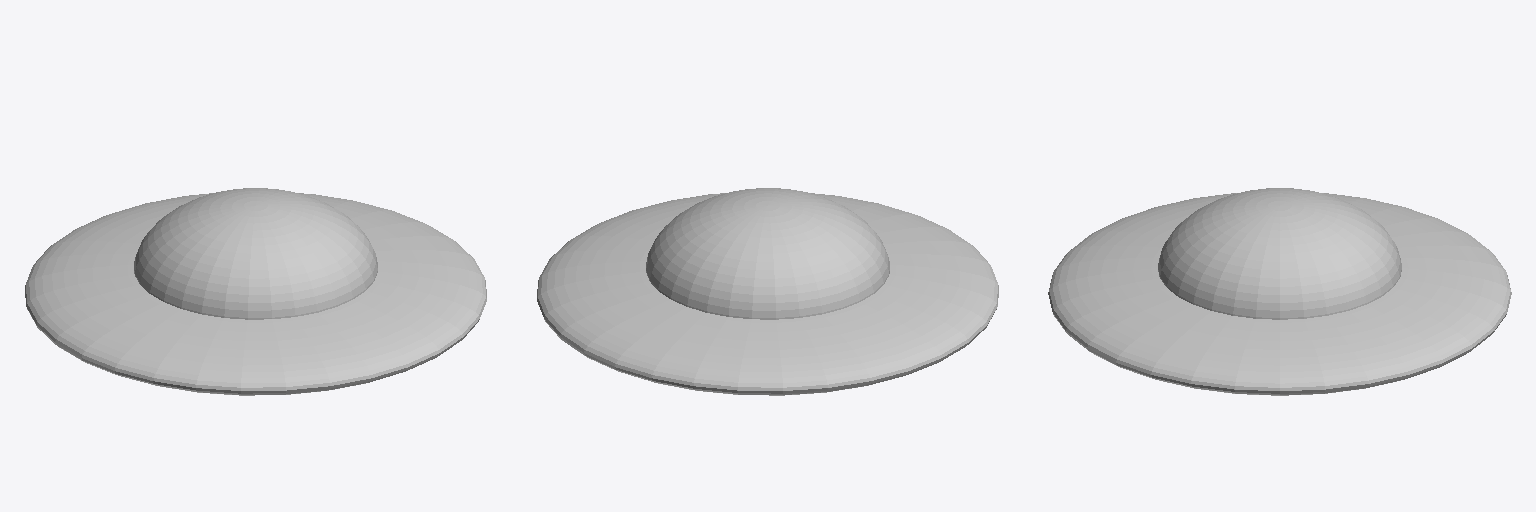
Rendered from saucer2.obj.
The picture shows the model from 3 angles: view 1: azimuth 30°, elevation 25°; view 2: azimuth 150°, elevation 25°; view 3: azimuth 270°, elevation 25°; orthographic projection.
Size of the model in its own units: 1.57 by 0.3772 by 1.57.